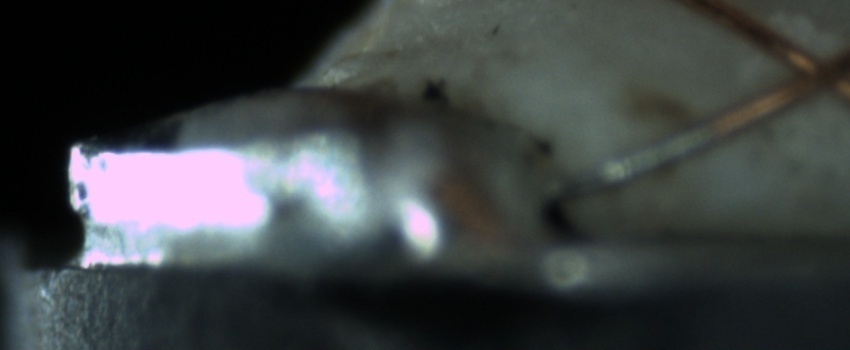CL: (767, 30, 850, 110)
TS: (551, 121, 712, 205)
